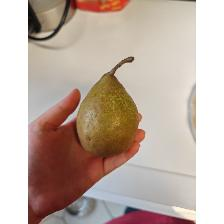Birne: (75, 56, 139, 158)
